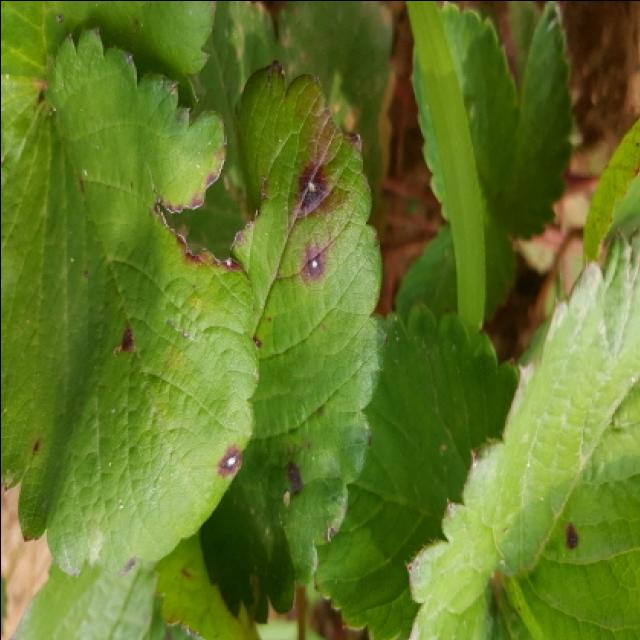Leaf Spot: (2, 25, 260, 582), (199, 58, 383, 625)
